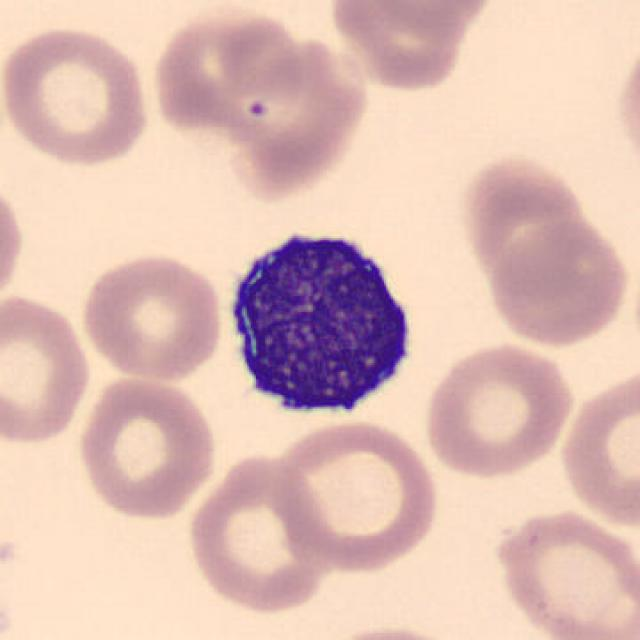Lymphocyte: (215, 215, 427, 430)
RBC: (266, 416, 442, 575), (182, 450, 334, 617), (149, 5, 320, 148), (0, 19, 155, 170), (420, 338, 576, 482), (73, 372, 220, 524), (455, 148, 590, 303), (76, 248, 226, 384), (489, 506, 638, 640), (485, 219, 633, 349), (321, 0, 492, 93), (0, 289, 94, 450), (556, 362, 638, 532), (343, 0, 501, 39), (611, 31, 640, 178), (0, 172, 28, 315), (311, 622, 482, 640)
